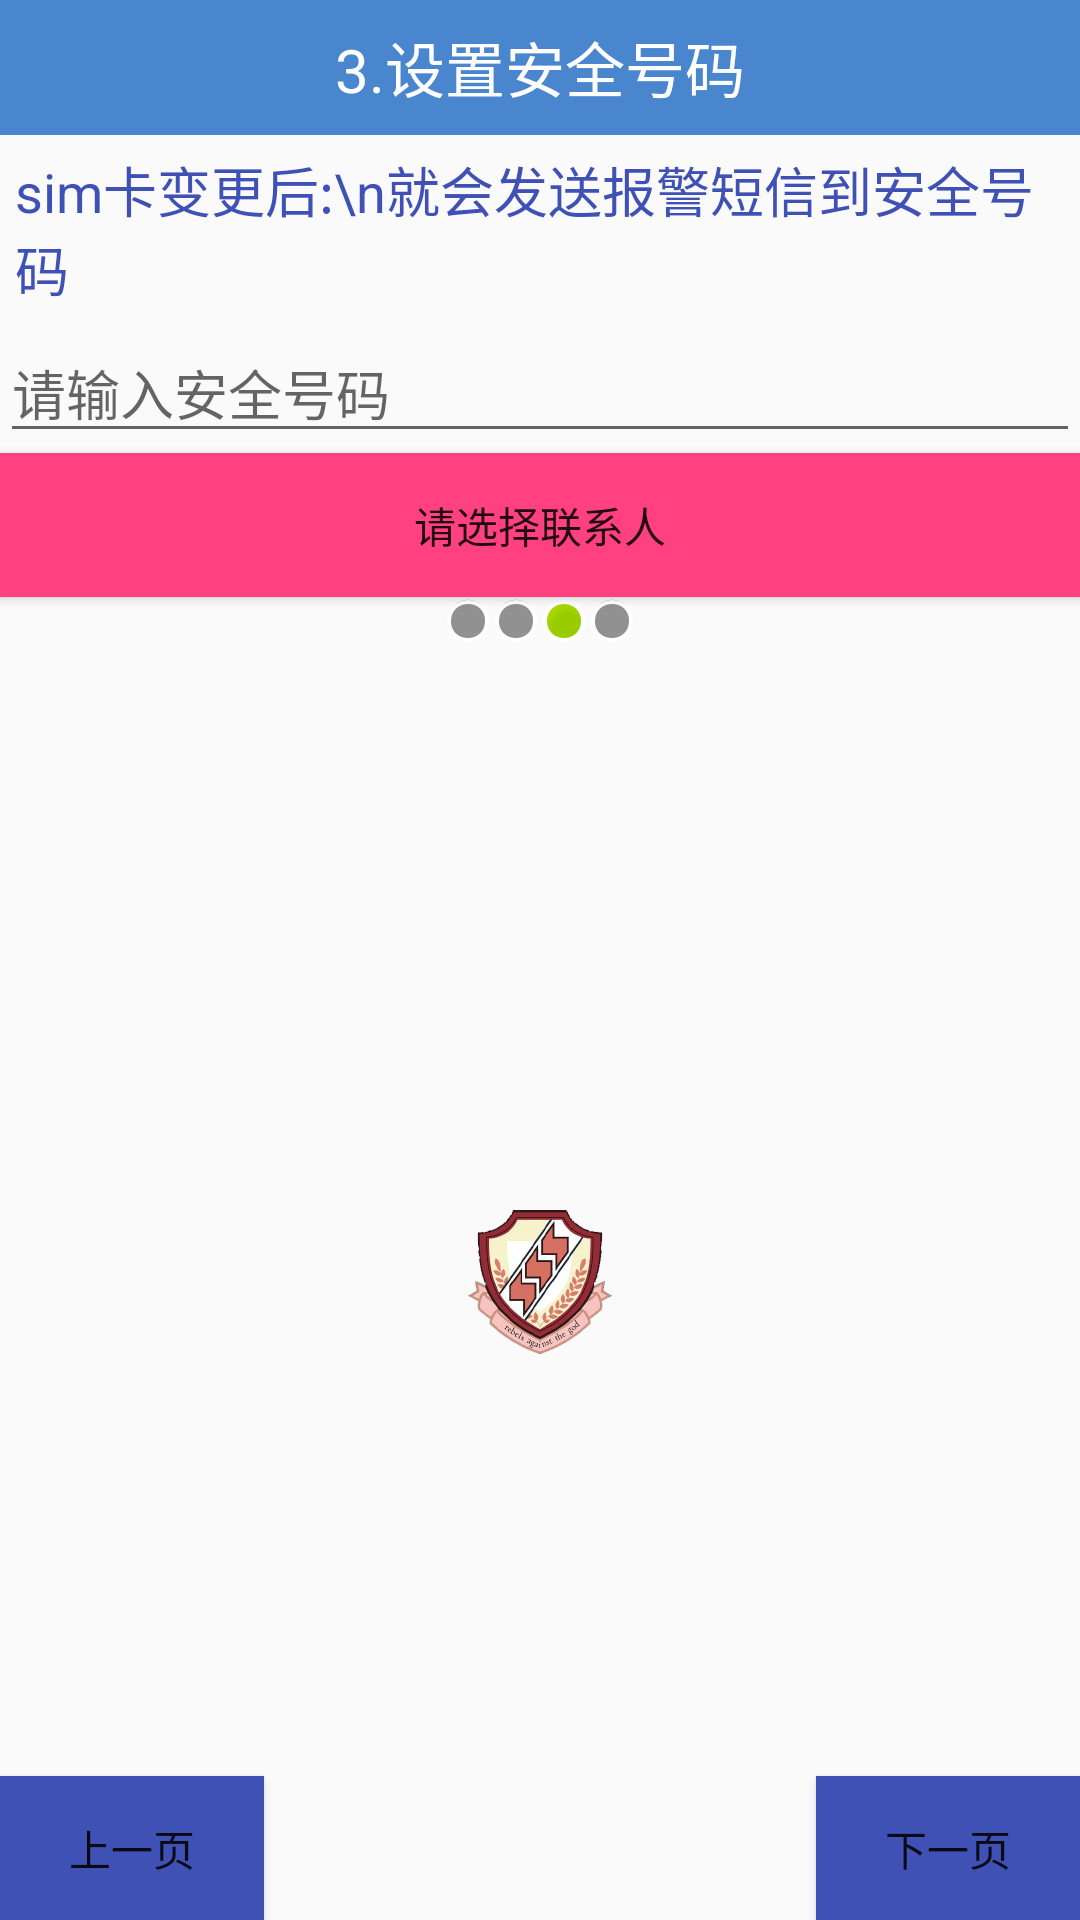

Screen size 1080w x 1920h. Icon name, then its center in pixels as (x,y):
presence invisible: (468,618), (516,618), (612,618)
presence online: (564,621)
